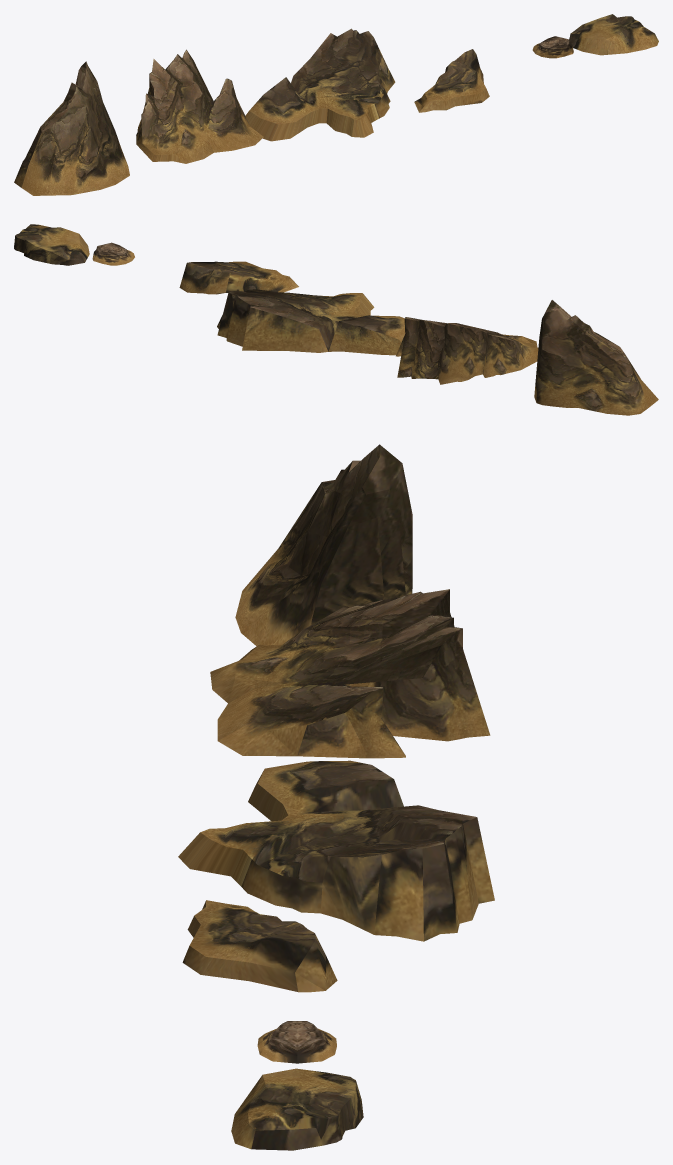
File: SMYJ_ST_shanshi_001.FBX
3 views of the same model, one above another, from view 1: azimuth 30°, elevation 25°; view 2: azimuth 150°, elevation 25°; view 3: azimuth 270°, elevation 25° (orthographic). The views are drawn at different scales.
Parts seen in each view (by area): view 1: SMYJ_ST_shanshi_001_002, SMYJ_ST_shanshi_001_006, SMYJ_ST_shanshi_001_001, SMYJ_ST_shanshi_001_005, SMYJ_ST_shanshi_001_003, SMYJ_ST_shanshi_001_004; view 2: SMYJ_ST_shanshi_001_002, SMYJ_ST_shanshi_001_001, SMYJ_ST_shanshi_001_006, SMYJ_ST_shanshi_001_003, SMYJ_ST_shanshi_001_005, SMYJ_ST_shanshi_001_004; view 3: SMYJ_ST_shanshi_001_002, SMYJ_ST_shanshi_001_006, SMYJ_ST_shanshi_001_001, SMYJ_ST_shanshi_001_003, SMYJ_ST_shanshi_001_005, SMYJ_ST_shanshi_001_004.
Part boxes in pixels (x1,y1,x2,y2): SMYJ_ST_shanshi_001_002: (245,28,395,141); SMYJ_ST_shanshi_001_006: (136,49,263,163); SMYJ_ST_shanshi_001_001: (14,61,129,195); SMYJ_ST_shanshi_001_005: (569,14,658,55); SMYJ_ST_shanshi_001_003: (414,49,489,112); SMYJ_ST_shanshi_001_004: (532,36,573,58); SMYJ_ST_shanshi_001_002: (217,289,405,355); SMYJ_ST_shanshi_001_001: (534,300,658,415); SMYJ_ST_shanshi_001_006: (396,317,538,384); SMYJ_ST_shanshi_001_003: (179,261,298,294); SMYJ_ST_shanshi_001_005: (14,224,89,265); SMYJ_ST_shanshi_001_004: (92,242,134,265); SMYJ_ST_shanshi_001_002: (178,760,494,941); SMYJ_ST_shanshi_001_006: (210,589,490,758); SMYJ_ST_shanshi_001_001: (235,444,412,646); SMYJ_ST_shanshi_001_003: (182,900,337,992); SMYJ_ST_shanshi_001_005: (231,1068,363,1150); SMYJ_ST_shanshi_001_004: (257,1021,336,1063).
Size of the model in its own units: 2197 by 328 by 486.
